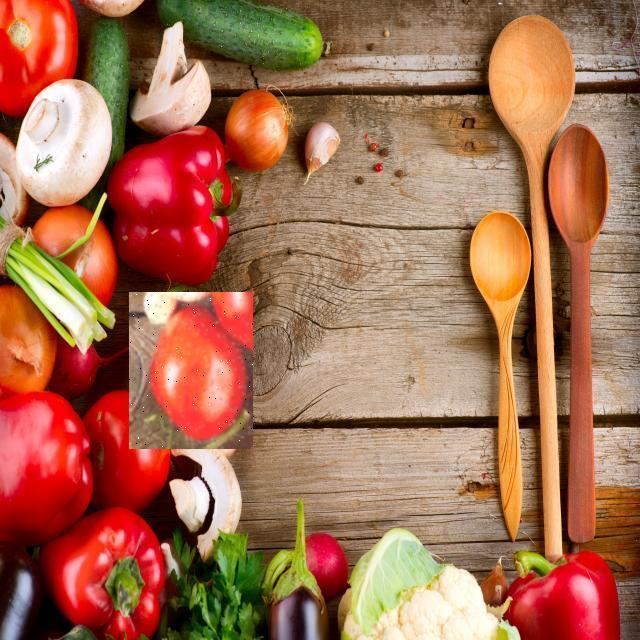Tomatoes: (129, 292, 253, 449)
